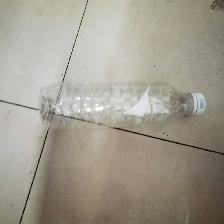bottle: (21, 36, 211, 182)
